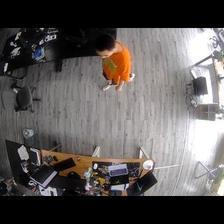normal: (94, 34, 136, 91)
